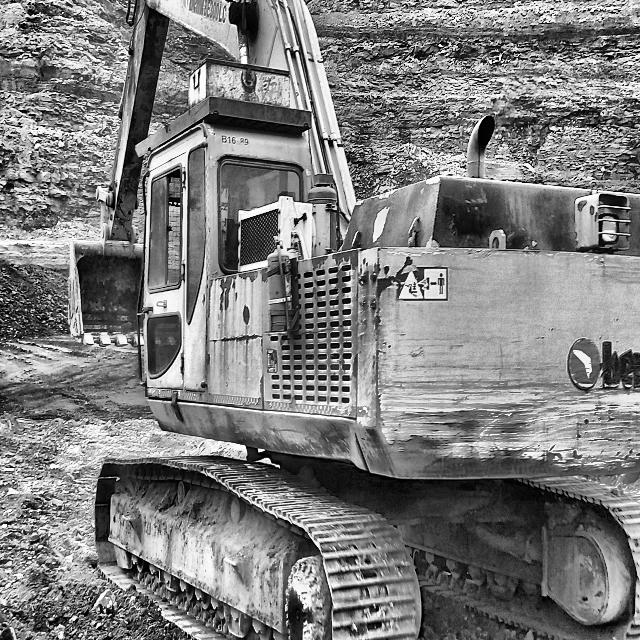excavator: (72, 0, 640, 640)
